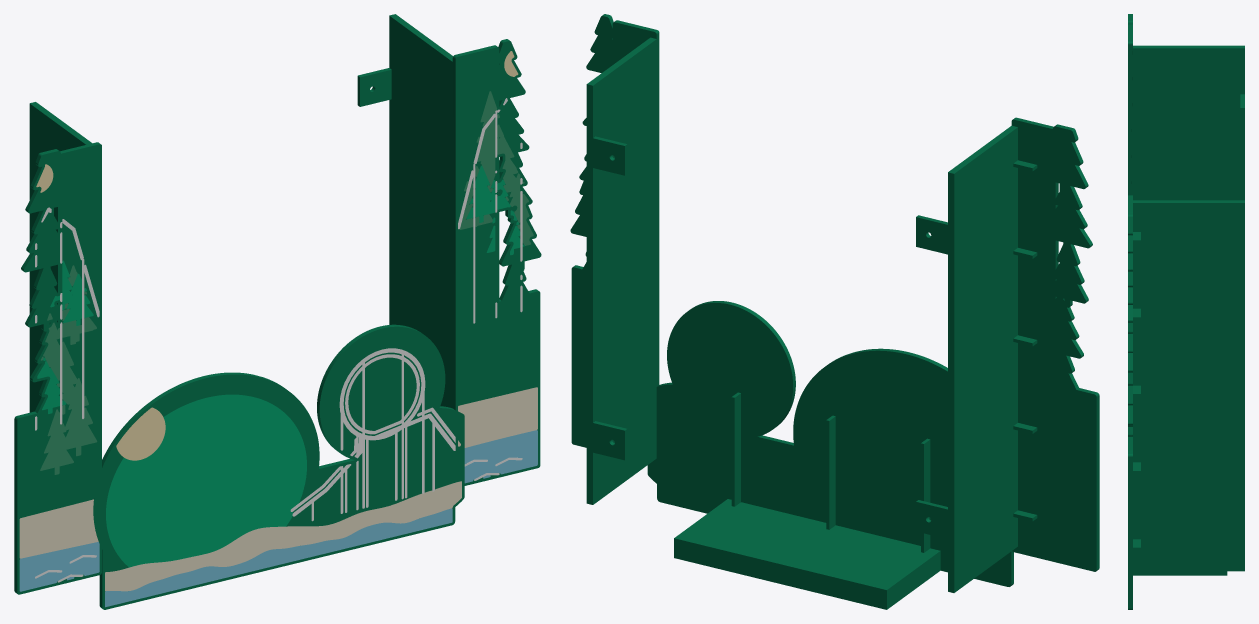
Rendered from parts.glb.
3 renders of one model, left to right at view 1: azimuth 30°, elevation 25°; view 2: azimuth 150°, elevation 25°; view 3: azimuth 270°, elevation 25°, orthographic. The views are drawn at different scales.
Parts seen in each view (by area): view 1: wing_right__base, topper__base, topper__green, wing_left__base, topper__sand, topper__white, topper__sea, wing_left__pine, wing_right__sand, wing_left__sand, wing_right__pine, wing_right__sea (+6 smaller); view 2: topper__base, wing_left__base, wing_right__base; view 3: wing_right__base, wing_left__base, topper__base.
Part boxes in pixels (x1=…): wing_right__base: x1=357, y1=14, x2=541, y2=485; topper__base: x1=93, y1=324, x2=464, y2=609; topper__green: x1=106, y1=394, x2=306, y2=567; wing_left__base: x1=14, y1=102, x2=101, y2=594; topper__sand: x1=105, y1=481, x2=461, y2=591; topper__white: x1=290, y1=348, x2=455, y2=521; topper__sea: x1=105, y1=508, x2=452, y2=607; wing_left__pine: x1=40, y1=265, x2=97, y2=474; wing_right__sand: x1=458, y1=387, x2=537, y2=447; wing_left__sand: x1=19, y1=499, x2=98, y2=558; wing_right__pine: x1=459, y1=91, x2=533, y2=245; wing_right__sea: x1=464, y1=430, x2=537, y2=483; topper__base: x1=647, y1=301, x2=1020, y2=609; wing_left__base: x1=916, y1=117, x2=1099, y2=592; wing_right__base: x1=570, y1=14, x2=659, y2=504; wing_right__base: x1=1128, y1=195, x2=1244, y2=609; wing_left__base: x1=1128, y1=14, x2=1244, y2=200; topper__base: x1=1133, y1=571, x2=1227, y2=575.
Size of the model in its own units: 334 by 286 by 73.01.
